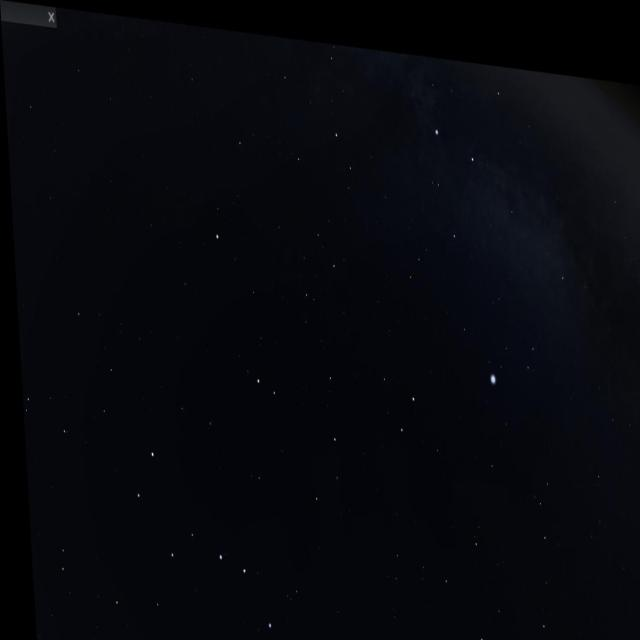cygnus: (411, 52, 578, 270)
lyra: (480, 301, 540, 392)
ursa_major: (134, 445, 270, 630)
